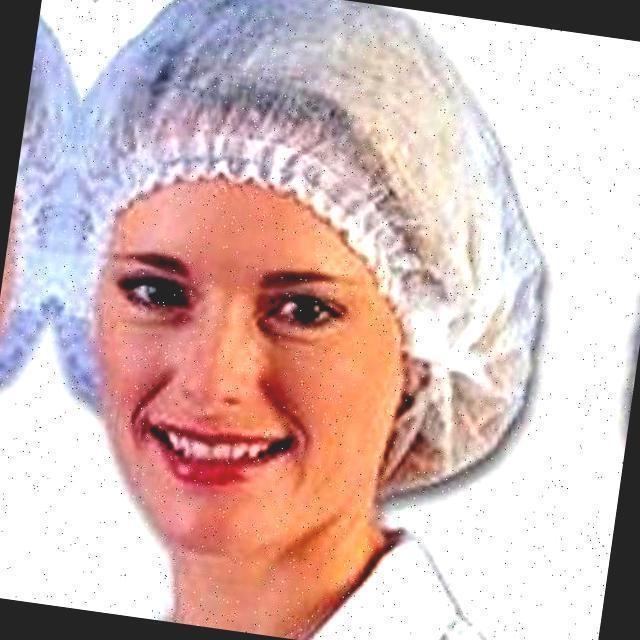gloves: (123, 0, 428, 191)
no_hairnet: (120, 312, 315, 502)
